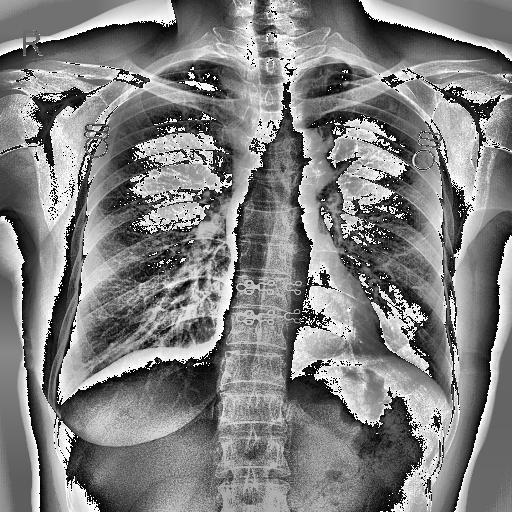13- Pulmonary fibrosis: (339, 68, 370, 122), (331, 78, 362, 124), (176, 65, 206, 107), (172, 63, 205, 83), (184, 65, 208, 83), (332, 79, 366, 91), (390, 97, 400, 115)
8- Nodule-Mass: (390, 97, 400, 115)
